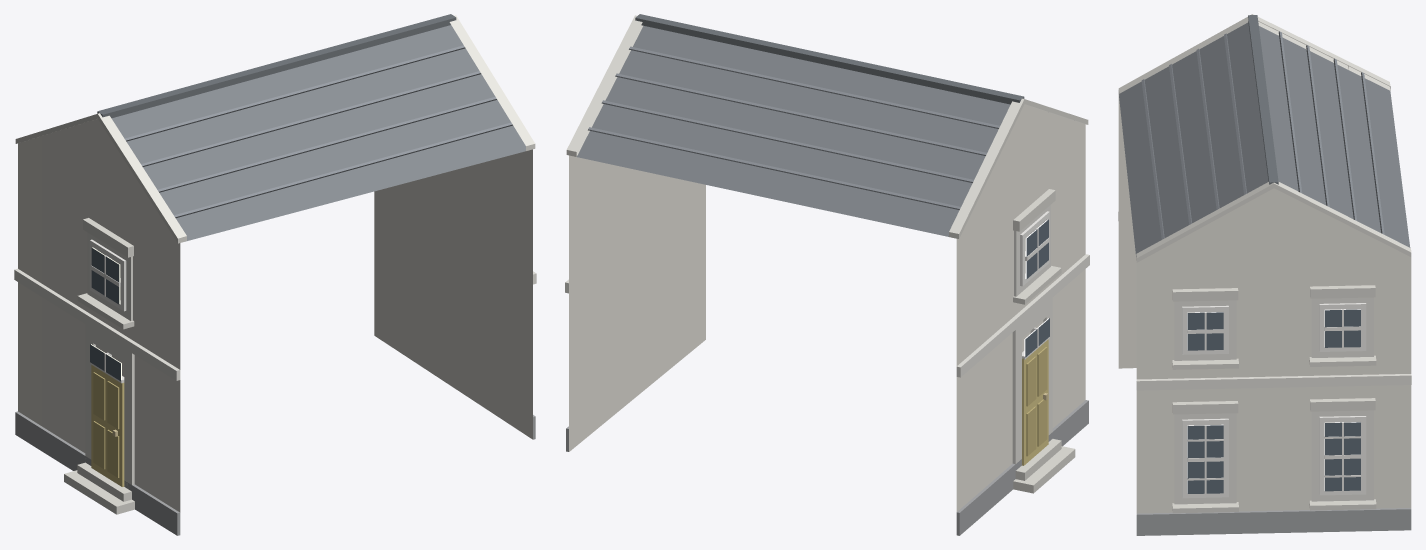
3 views of the same model, side by side, from view 1: azimuth 30°, elevation 25°; view 2: azimuth 150°, elevation 25°; view 3: azimuth 270°, elevation 25° (orthographic). The views are drawn at different scales.
Visible parts, largest first — view 1: harl_cream, slate, dress_cream, string, slate_lt, slate_dk, plinth, door_yellow_p, door_yellow, frame, window_glass_006; view 2: harl_cream, slate, dress_cream, slate_lt, string, slate_dk, plinth, door_yellow_p, door_yellow, frame, window_glass_006; view 3: harl_cream, slate, dress_cream, string, plinth, frame, slate_lt, window_glass_001, window_glass_003, slate_dk, window_glass_002, window_glass_004.
Part boxes in pixels (<box>): harl_cream: <box>18,119,532,512</box>; slate: <box>111,25,525,241</box>; dress_cream: <box>15,15,535,514</box>; string: <box>14,232,536,488</box>; slate_lt: <box>67,45,512,217</box>; slate_dk: <box>97,14,456,118</box>; plinth: <box>15,411,535,535</box>; door_yellow_p: <box>93,372,119,477</box>; door_yellow: <box>91,365,124,486</box>; frame: <box>89,239,126,383</box>; window_glass_006: <box>91,247,120,304</box>; harl_cream: <box>569,104,1085,511</box>; slate: <box>577,25,1010,236</box>; dress_cream: <box>566,15,1088,493</box>; slate_lt: <box>588,46,999,209</box>; string: <box>565,205,1089,463</box>; slate_dk: <box>635,14,1024,104</box>; plinth: <box>566,400,1088,535</box>; door_yellow_p: <box>1026,347,1047,456</box>; door_yellow: <box>1022,339,1048,465</box>; frame: <box>1020,211,1049,359</box>; window_glass_006: <box>1025,219,1048,278</box>; harl_cream: <box>1118,95,1411,513</box>; slate: <box>1119,22,1410,256</box>; dress_cream: <box>1118,14,1411,513</box>; string: <box>1118,212,1411,504</box>; plinth: <box>1136,508,1411,535</box>; frame: <box>1182,303,1366,498</box>; slate_lt: <box>1141,31,1384,239</box>; window_glass_001: <box>1187,424,1223,493</box>; window_glass_003: <box>1324,422,1360,491</box>; slate_dk: <box>1248,15,1278,184</box>; window_glass_002: <box>1187,312,1223,350</box>; window_glass_004: <box>1324,309,1360,347</box>.
Size of the model in its own units: 8.46 by 7.43 by 5.65.
